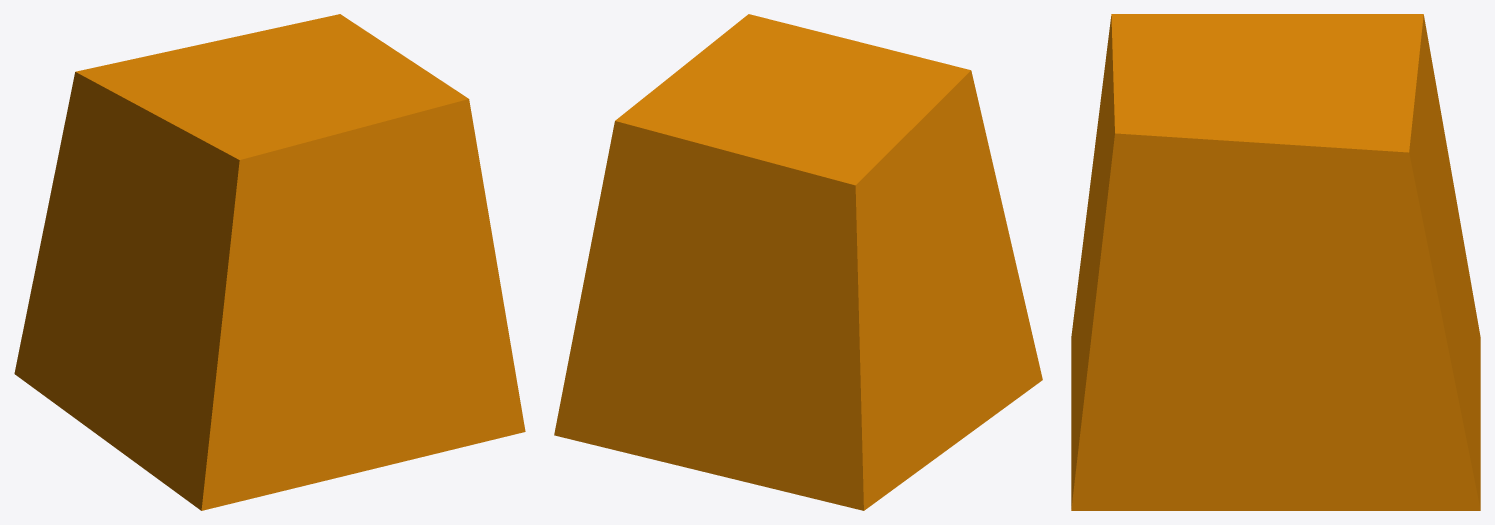
Rendered from item.glb.
The picture shows the model from 3 angles, left to right: view 1: azimuth 30°, elevation 25°; view 2: azimuth 150°, elevation 25°; view 3: azimuth 270°, elevation 25°; orthographic projection. The views are drawn at different scales.
Parts seen in each view (by area): view 1: Cube; view 2: Cube; view 3: Cube.
Part boxes in pixels (x1=…): Cube: x1=14, y1=14, x2=525, y2=510; Cube: x1=554, y1=14, x2=1042, y2=510; Cube: x1=1071, y1=14, x2=1480, y2=510.
Size of the model in its own units: 0.5 by 0.4824 by 0.5.
